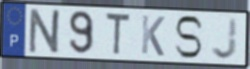9: (68, 9, 96, 57)
J: (210, 17, 239, 62)
K: (140, 13, 167, 58)
N: (27, 8, 65, 56)
S: (173, 14, 205, 60)
T: (103, 11, 132, 58)
